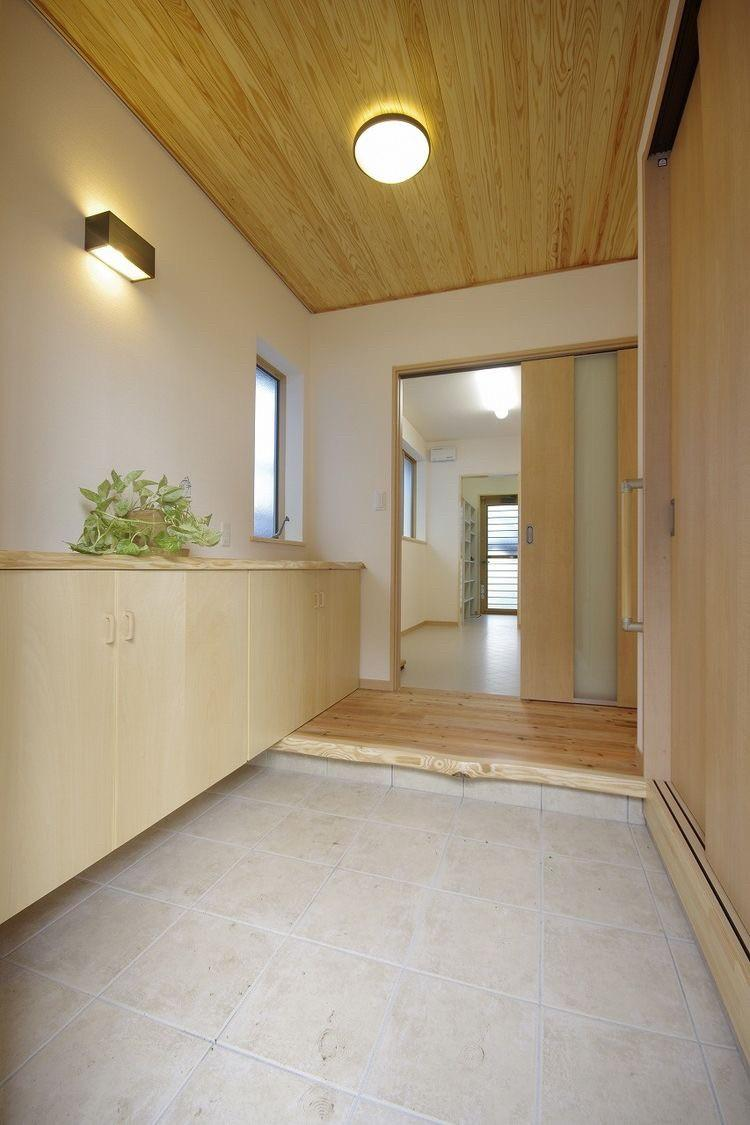floor: (0, 764, 749, 1124)
safe: (284, 614, 646, 783)
